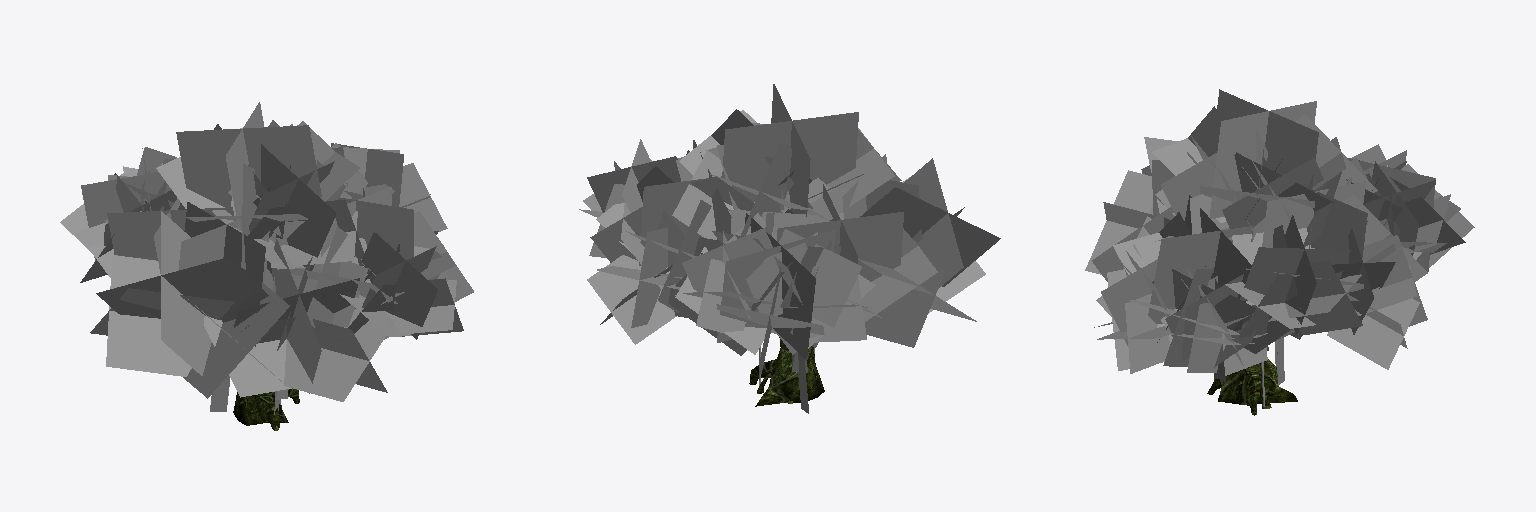
3 views of the same model, side by side, from view 1: azimuth 30°, elevation 25°; view 2: azimuth 150°, elevation 25°; view 3: azimuth 270°, elevation 25° (orthographic).
Visible parts, largest first — view 1: 1d767260.obj, 1d75de40.obj, 1d757588.obj; view 2: 1d767260.obj, 1d75de40.obj, 1d757588.obj; view 3: 1d767260.obj, 1d75de40.obj, 1d757588.obj.
Part boxes in pixels (x1,y1,x2,y2): 1d767260.obj: (60,102,473,401); 1d75de40.obj: (233,388,299,430); 1d757588.obj: (210,376,288,414); 1d767260.obj: (579,84,1000,373); 1d75de40.obj: (749,337,824,406); 1d757588.obj: (771,328,814,413); 1d767260.obj: (1085,89,1474,375); 1d75de40.obj: (1207,359,1297,415); 1d757588.obj: (1214,338,1284,385).
Size of the model in its own units: 43.72 by 33.96 by 40.95.
Materials: 5 (1 with a texture image).